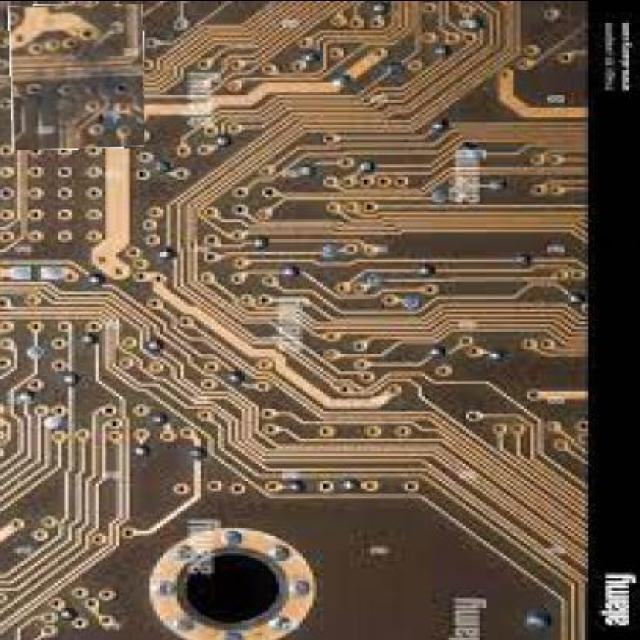Burn: (10, 2, 146, 148)
